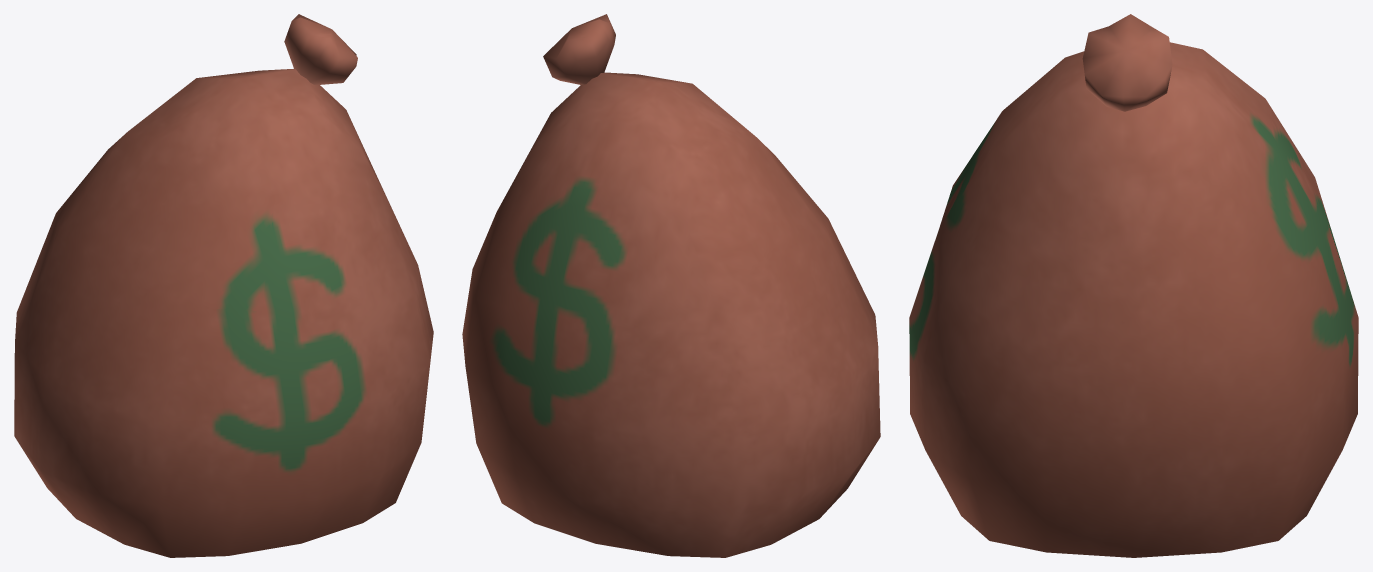
File: money bag.fbx
3 views of the same model, side by side, from view 1: azimuth 30°, elevation 25°; view 2: azimuth 150°, elevation 25°; view 3: azimuth 270°, elevation 25° (orthographic). The views are drawn at different scales.
Visible parts, largest first — view 1: polySurface365; view 2: polySurface365; view 3: polySurface365.
Part boxes in pixels (left/top/right/bottom): polySurface365: left=14, top=14, right=433, bottom=557; polySurface365: left=462, top=14, right=880, bottom=557; polySurface365: left=909, top=14, right=1358, bottom=557.
Size of the model in its own units: 0.4935 by 0.5774 by 0.4622.
1 material, 1 textured.
